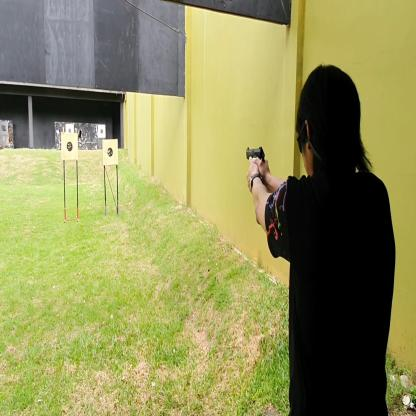handgun: (244, 141, 266, 167)
